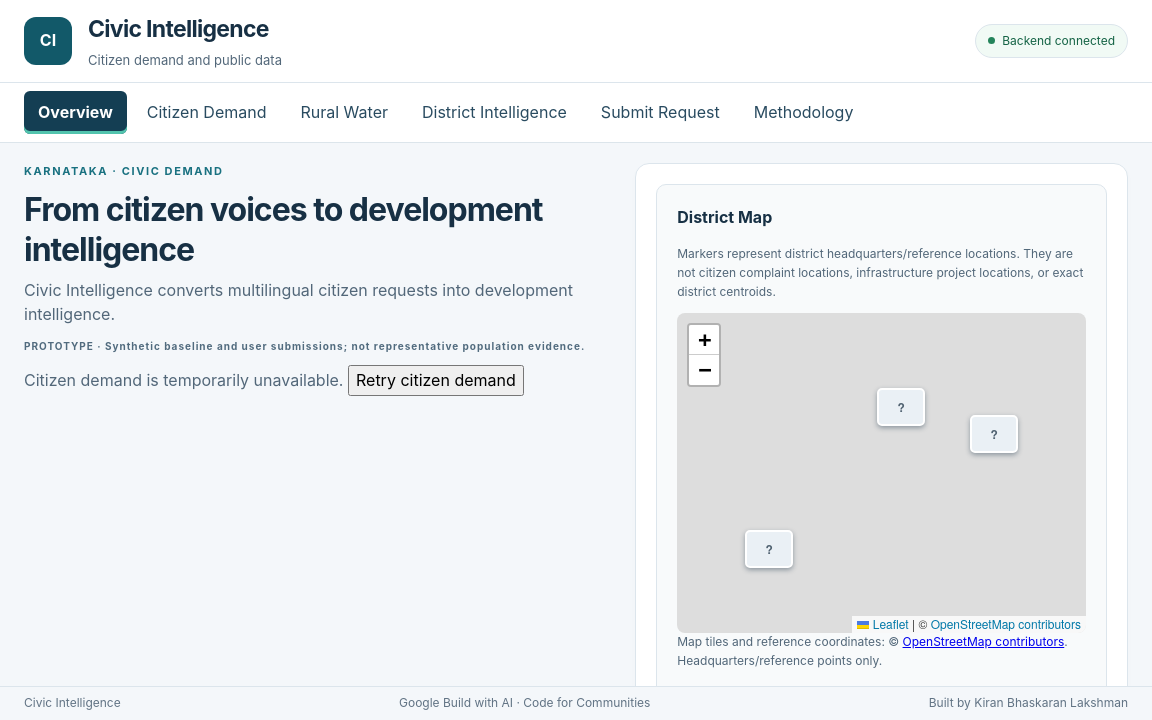
District Intelligence › isolates /water-priority failure
Expected: the heading "From citizen voices to development intelligence" is shown, [24,190,615,270]
What coordinates should you click on to do the following:
click the tab "Rural Water"
I would click on:
 (344, 112)
Its box is [286,91,402,134].
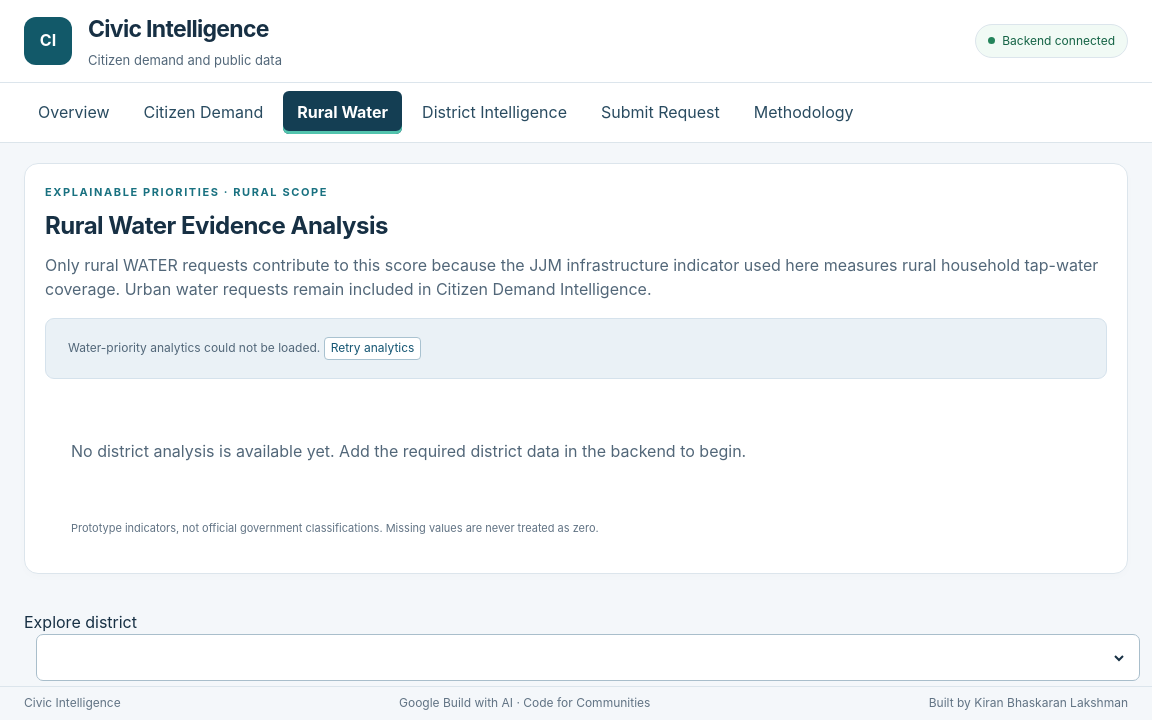
Result: the button "Retry analytics" is shown at [324,337,421,360]
Result: the heading "Rural Water Evidence Analysis" is shown at [45,211,388,240]
What coordinates should you click on to do the following:
click the tab "Submit Request"
I would click on:
 (660, 112)
Its box is [587,91,734,134].
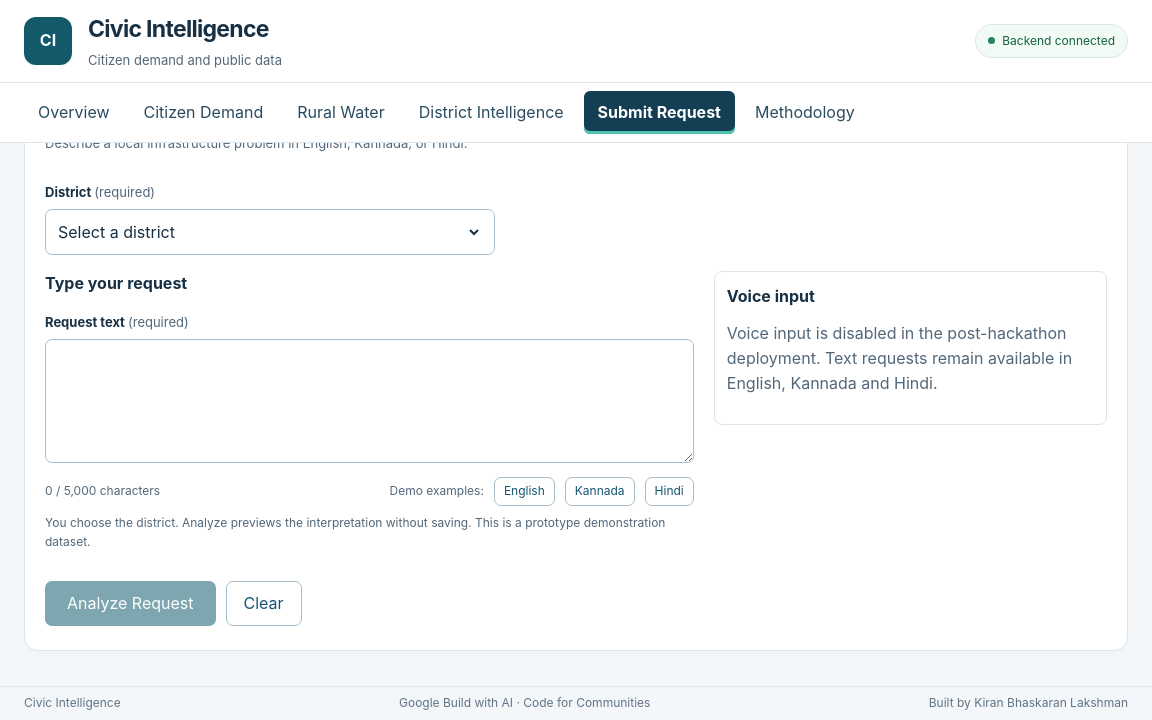
Result: the button "Analyze Request" is shown at [45,581,216,626]
